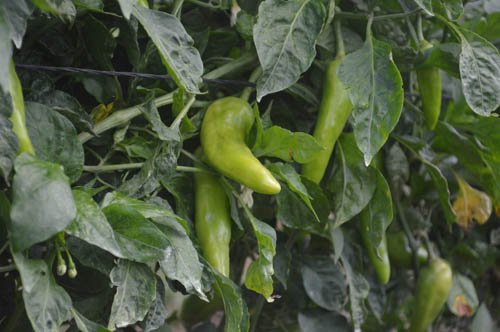ChiliPepper: (340, 134, 391, 283), (206, 97, 280, 193), (305, 61, 357, 188), (186, 150, 232, 276), (416, 260, 451, 330), (415, 49, 441, 131)
